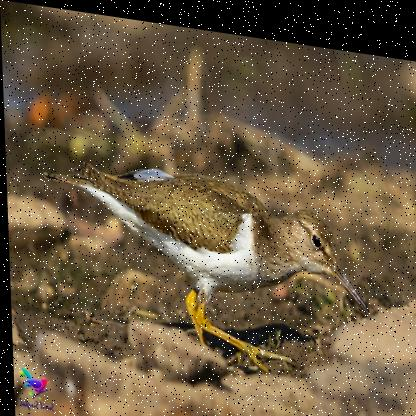Burung: (43, 150, 361, 372)
